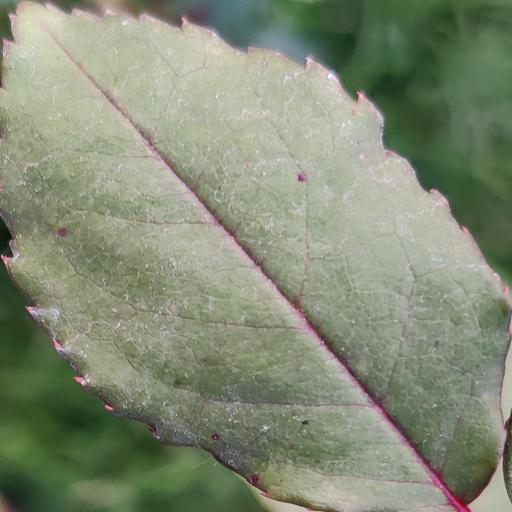healthy_leaf: (0, 3, 512, 512)
